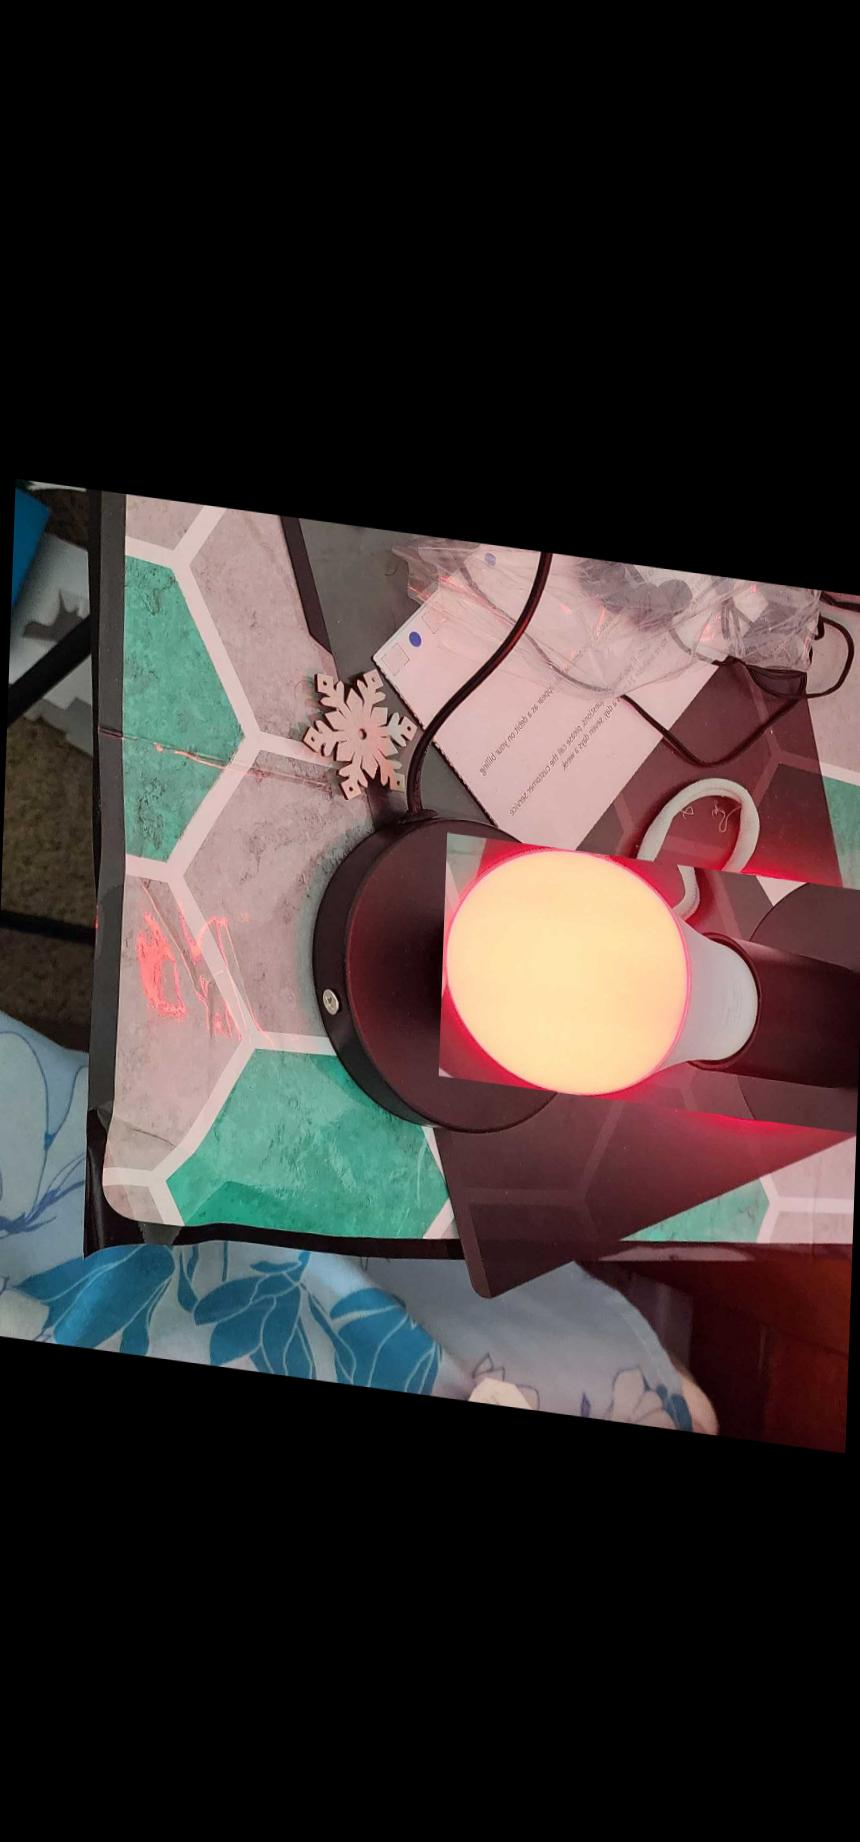TubeLight: (438, 821, 860, 1114)
